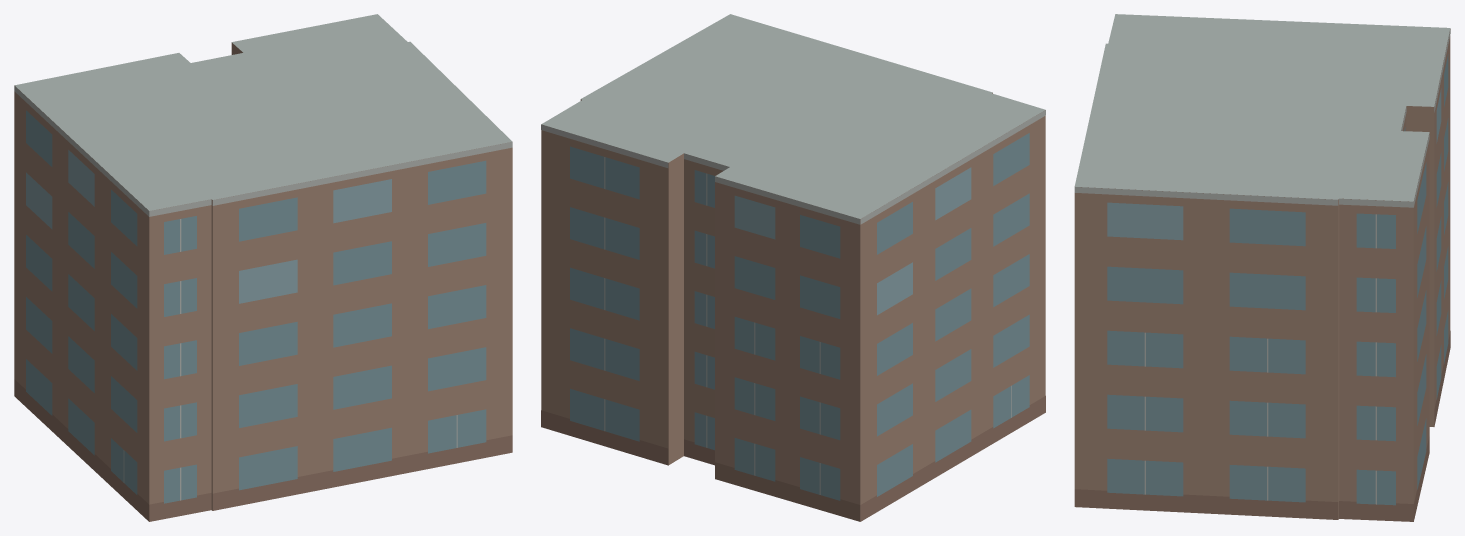
The model's file is survey-upis-32658359.glb.
3 views of the same model, side by side, from view 1: azimuth 30°, elevation 25°; view 2: azimuth 150°, elevation 25°; view 3: azimuth 270°, elevation 25° (orthographic). The views are drawn at different scales.
Parts seen in each view (by area): view 1: survey-upis-32658359.tmp; view 2: survey-upis-32658359.tmp; view 3: survey-upis-32658359.tmp.
Boxes of the visible parts, x1,y1,x2,y2 form: survey-upis-32658359.tmp: (14,14,512,521); survey-upis-32658359.tmp: (541,14,1045,521); survey-upis-32658359.tmp: (1074,14,1450,521).
Size of the model in its own units: 16.22 by 12.9 by 13.73.
